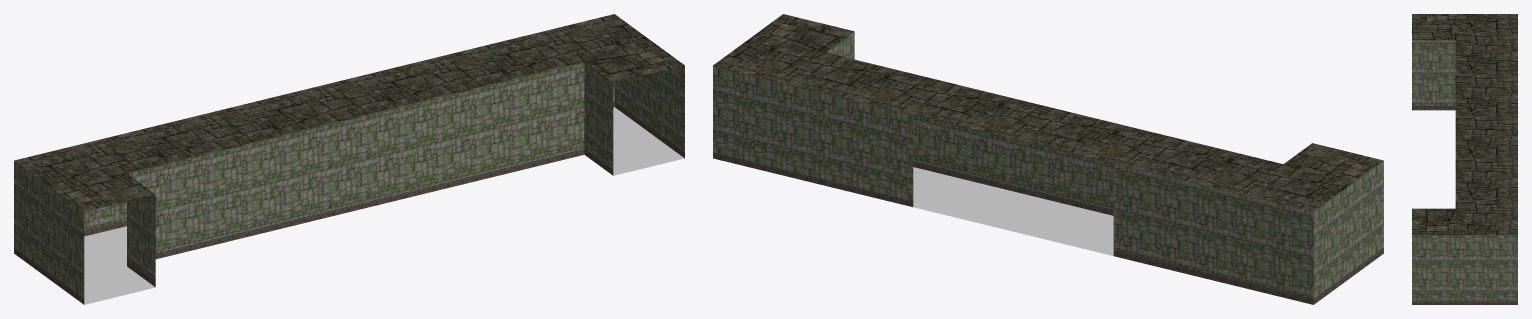
File: thm_yavn_palace_woolamander_r2_entrance2_mesh.fbx
3 renders of one model, left to right at view 1: azimuth 30°, elevation 25°; view 2: azimuth 150°, elevation 25°; view 3: azimuth 270°, elevation 25°, orthographic. The views are drawn at different scales.
Parts seen in each view (by area): view 1: mesh_node; view 2: mesh_node; view 3: mesh_node.
Part boxes in pixels (bbox=[...]): mesh_node: bbox=[14, 14, 684, 304]; mesh_node: bbox=[713, 14, 1383, 304]; mesh_node: bbox=[1412, 14, 1517, 304].
Size of the model in its own units: 42 by 6.22 by 8.5.
